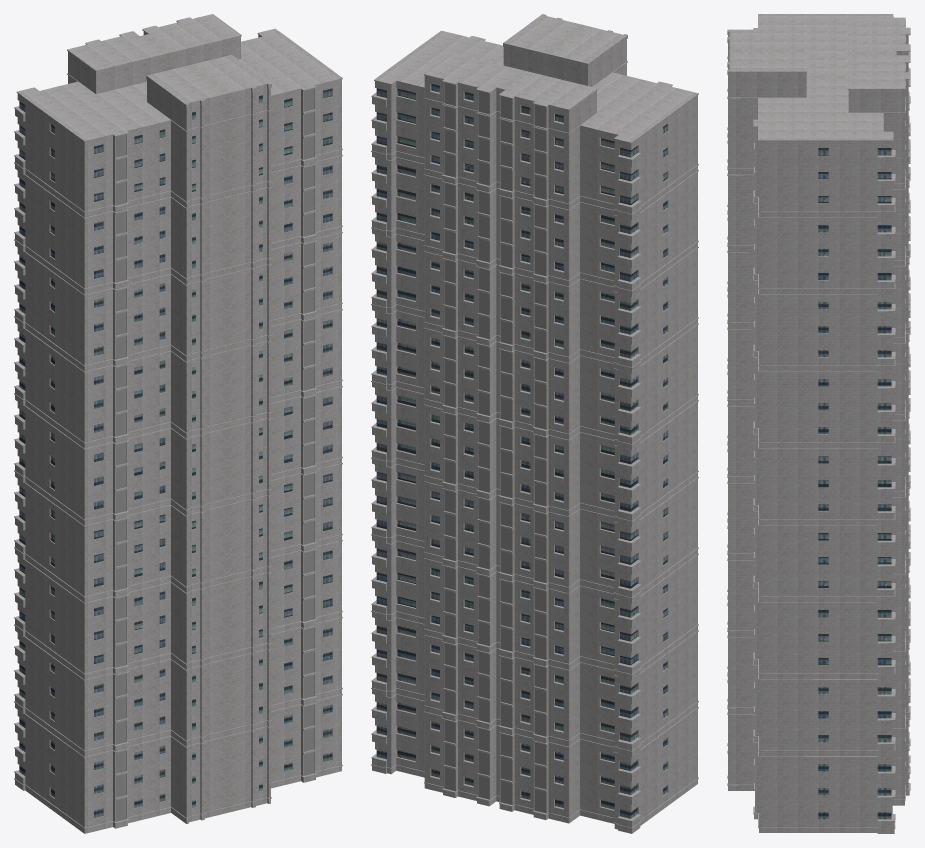
File: builder_7.FBX
The picture shows the model from 3 angles, left to right: view 1: azimuth 30°, elevation 25°; view 2: azimuth 150°, elevation 25°; view 3: azimuth 270°, elevation 25°; orthographic projection.
Visible parts, largest first — view 1: builder_7; view 2: builder_7; view 3: builder_7.
Boxes of the visible parts, <box> form: builder_7: <box>14,14,342,833</box>; builder_7: <box>371,14,698,833</box>; builder_7: <box>727,14,910,833</box>.
Bounding box in the file's own units: 15899 × 41652 × 9609.
